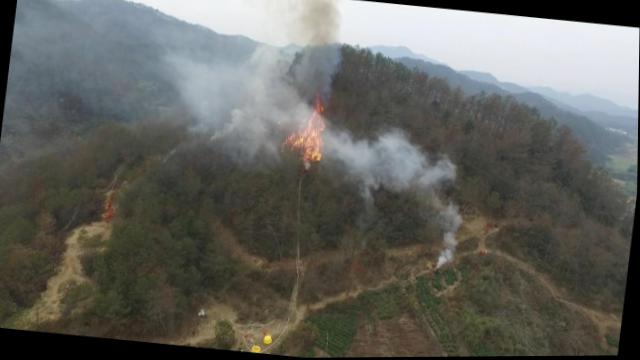fire: (255, 78, 364, 180)
